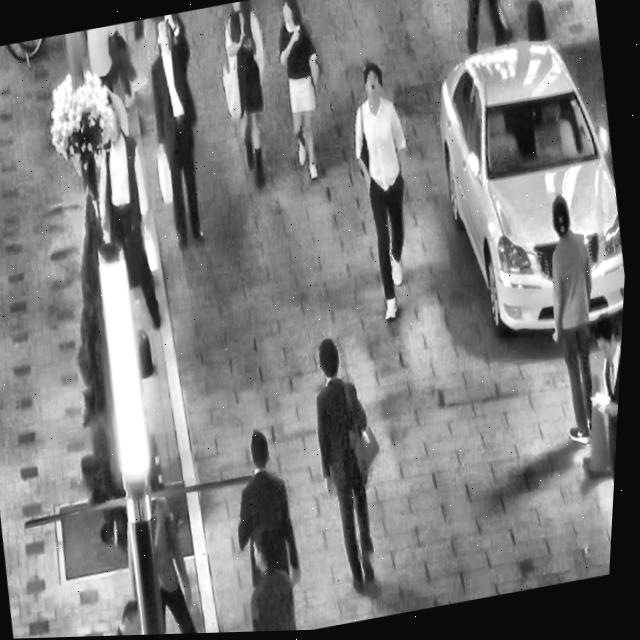light_vehicle: (413, 12, 639, 363)
